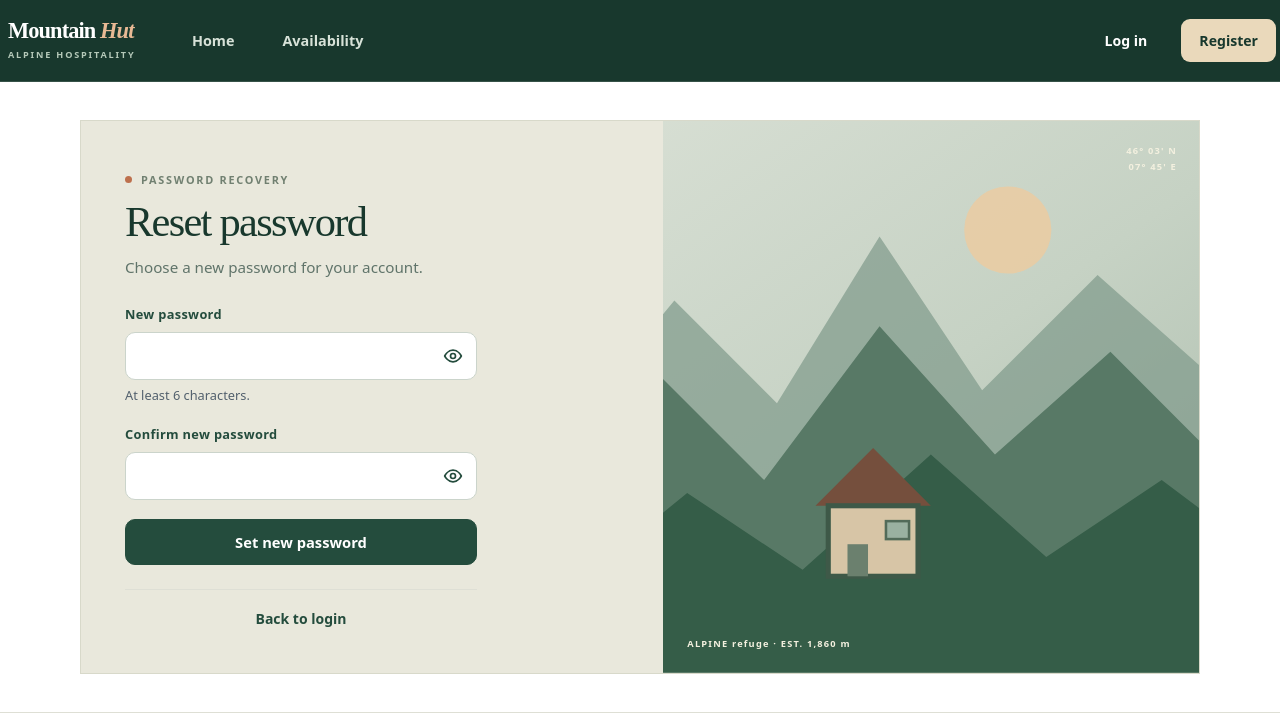
Scenario: reset password › an expired or used link shows the backend error
This screenshot has width=1280, height=720.
Type "newpass1" into the password field labelled "New password" at (301, 356), box top-left (125, 332), bottom-right (477, 380)
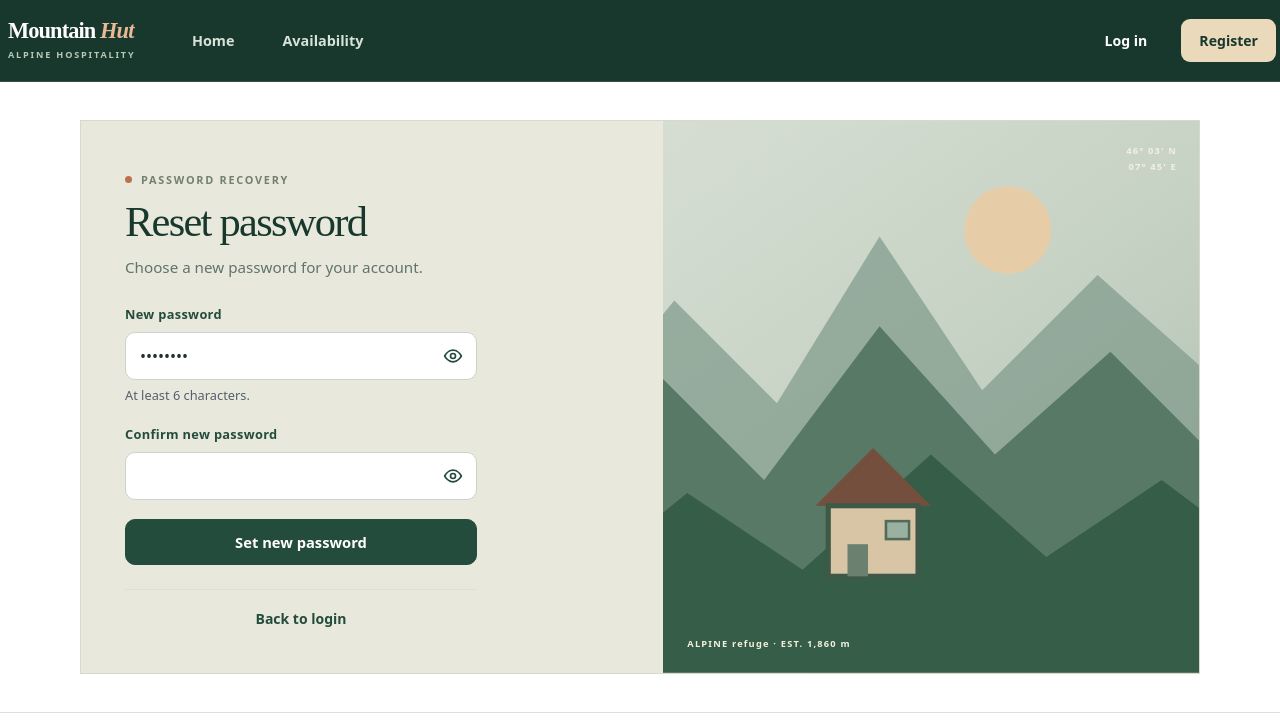
Type "newpass1" into the password field labelled "Confirm new password" at (301, 476), box top-left (125, 452), bottom-right (477, 500)
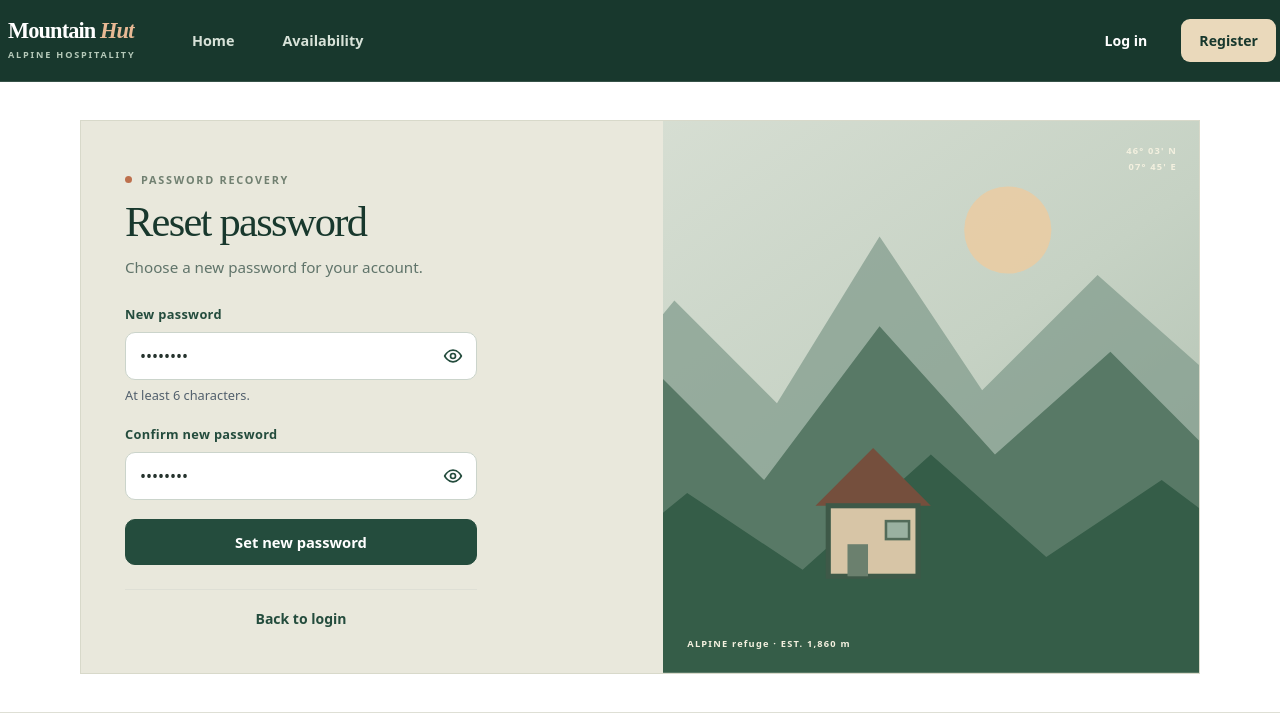
Click the button "Set new password" at (301, 542), box top-left (125, 519), bottom-right (477, 565)
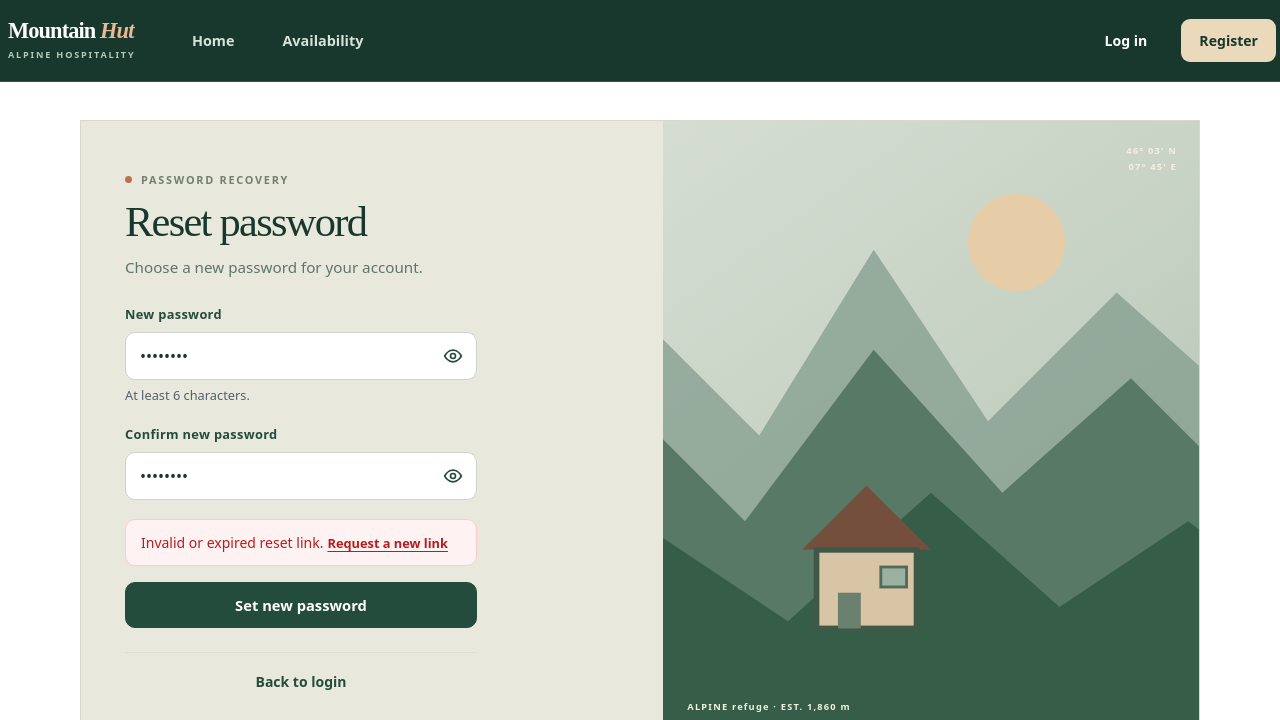
Now the message shows "Invalid or expired reset link", box top-left (141, 533), bottom-right (320, 552)
Now the link "Request a new link" is shown, box top-left (327, 534), bottom-right (448, 552)
